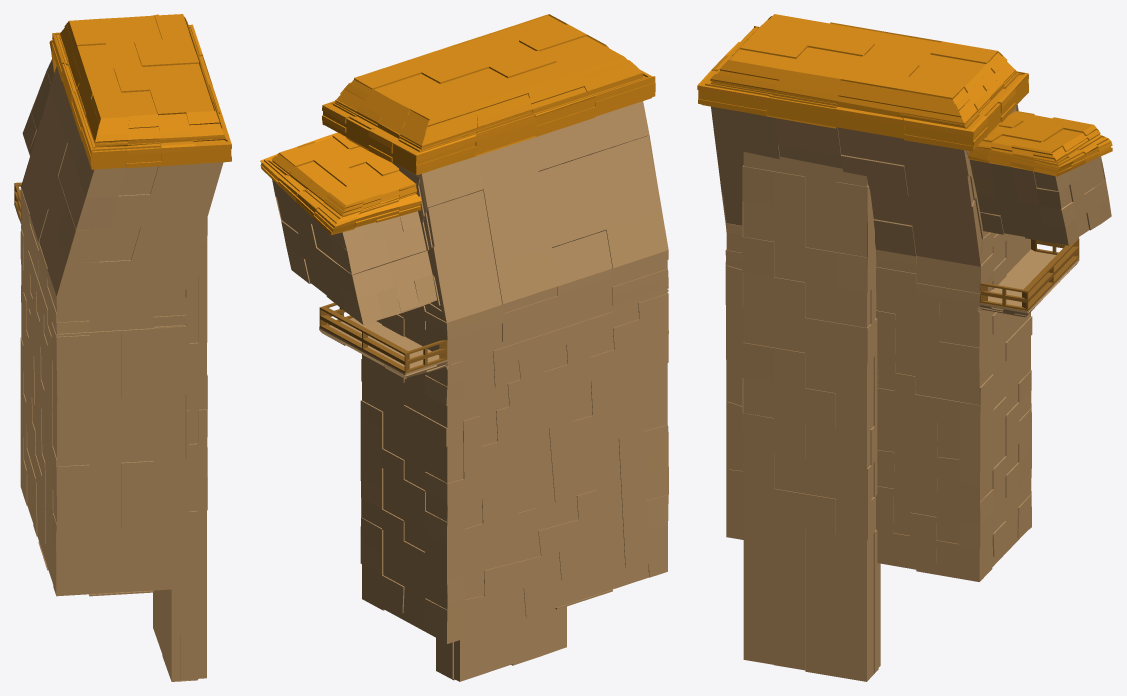
The model's file is Apartment_Building_9.fbx.
3 renders of one model, left to right at view 1: azimuth 30°, elevation 25°; view 2: azimuth 150°, elevation 25°; view 3: azimuth 270°, elevation 25°, orthographic. The views are drawn at different scales.
Parts seen in each view (by area): view 1: Cube.432; view 2: Cube.432; view 3: Cube.432.
Boxes of the visible parts, x1,y1,x2,y2 form: Cube.432: (14,14,231,681); Cube.432: (260,14,668,681); Cube.432: (697,14,1112,681).
Size of the model in its own units: 1587 by 3529 by 2207.
